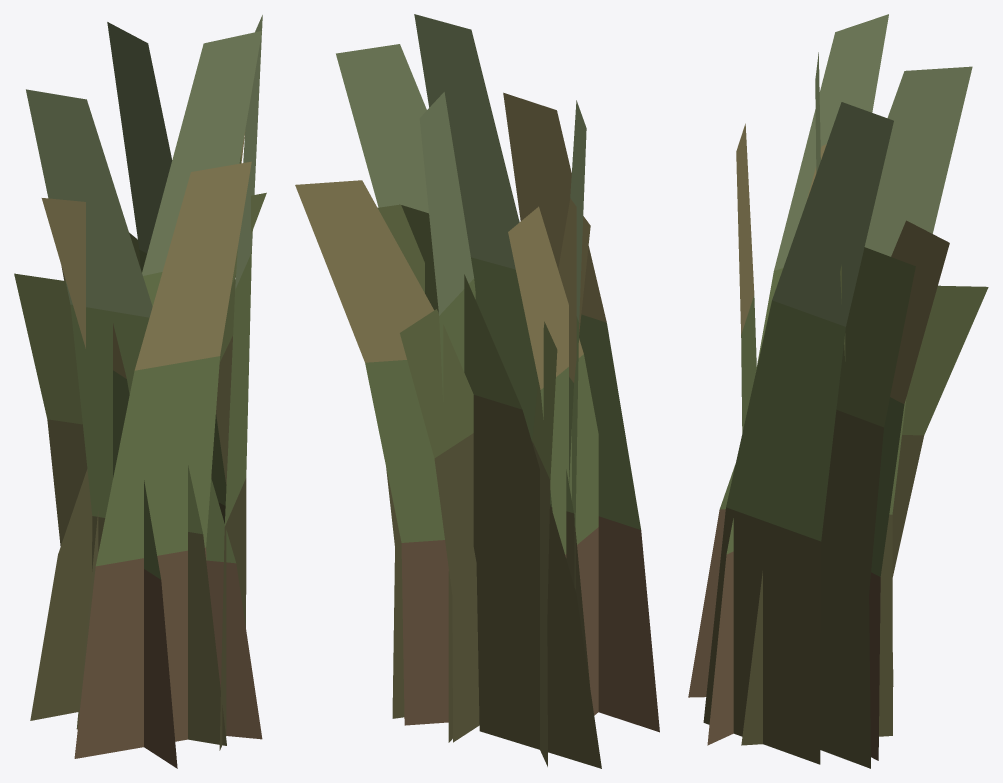
Rendered from TallGrass.fbx.
The picture shows the model from 3 angles, left to right: view 1: azimuth 30°, elevation 25°; view 2: azimuth 150°, elevation 25°; view 3: azimuth 270°, elevation 25°; orthographic projection. The views are drawn at different scales.
Visible parts, largest first — view 1: TallGrass_02, TallGrass_03, TallGrass_01; view 2: TallGrass_02, TallGrass_01, TallGrass_03; view 3: TallGrass_03, TallGrass_01, TallGrass_02.
Part boxes in pixels (x1,y1,x2,y2): TallGrass_02: (41, 131, 262, 768); TallGrass_03: (26, 15, 262, 750); TallGrass_01: (14, 154, 266, 720); TallGrass_02: (295, 92, 659, 732); TallGrass_01: (378, 204, 601, 768); TallGrass_03: (336, 14, 589, 742); TallGrass_03: (703, 14, 972, 764); TallGrass_01: (820, 247, 988, 768); TallGrass_02: (688, 123, 949, 760).
Bounding box in the file's own units: 0.5827 × 1.39 × 0.5488.
1 material, 1 textured.
